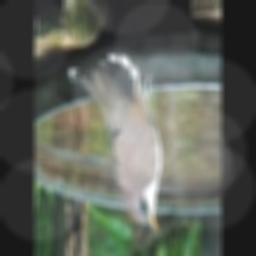Cuckoo: (69, 54, 164, 239)
